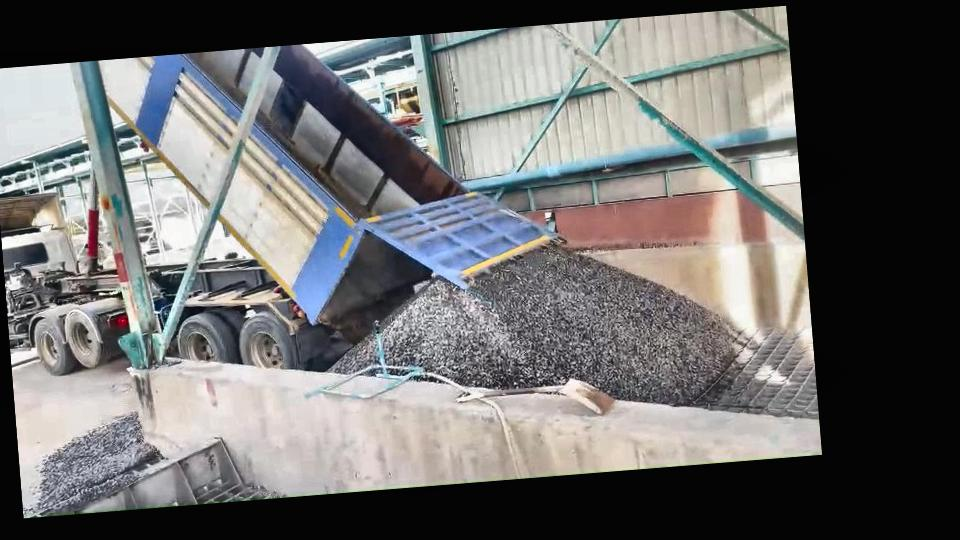gravel: (383, 246, 741, 405), (24, 413, 160, 515), (331, 339, 375, 373)
